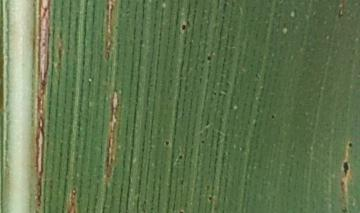tarspot: (342, 161, 349, 179), (181, 24, 185, 31), (206, 56, 211, 61), (164, 140, 169, 145), (178, 155, 182, 160), (200, 139, 205, 143), (348, 143, 353, 147), (207, 196, 211, 200), (271, 115, 274, 119)
